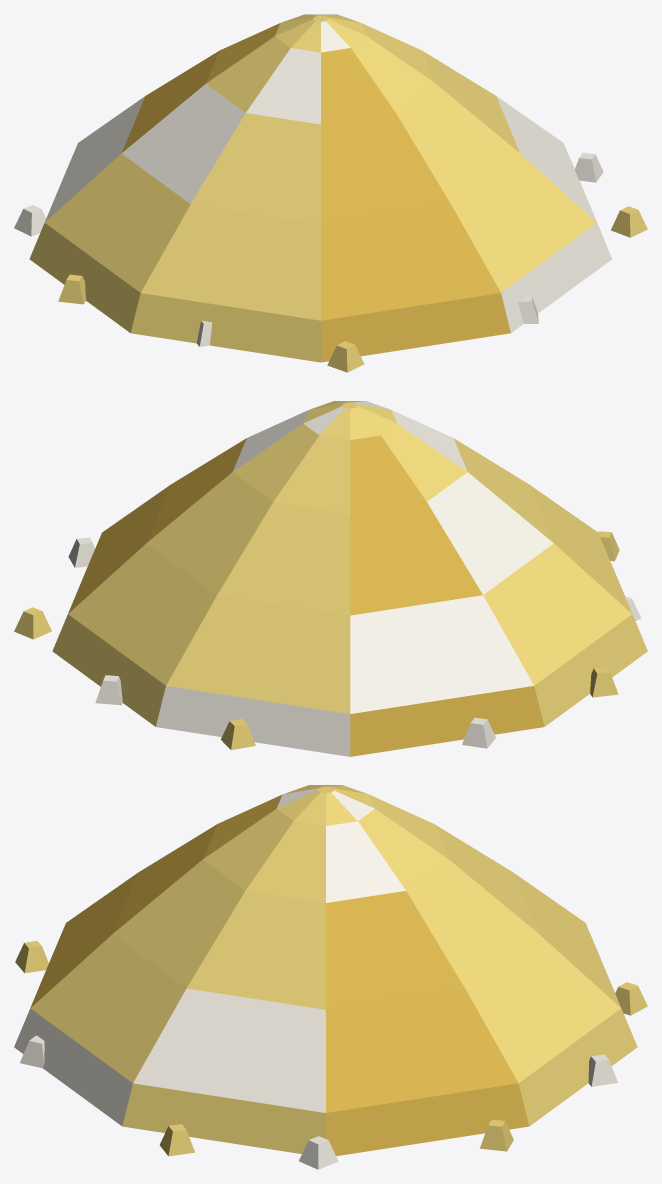
File: rice-crop.glb
3 renders of one model, top to bottom at view 1: azimuth 30°, elevation 25°; view 2: azimuth 150°, elevation 25°; view 3: azimuth 270°, elevation 25°, orthographic. The views are drawn at different scales.
Parts seen in each view (by area): view 1: rice-crop; view 2: rice-crop; view 3: rice-crop.
Part boxes in pixels (<box>): rice-crop: <box>14,14,647,372</box>; rice-crop: <box>14,401,647,756</box>; rice-crop: <box>14,785,647,1169</box>.
Size of the model in its own units: 0.4017 by 0.155 by 0.3804.
1 material, 1 textured.
